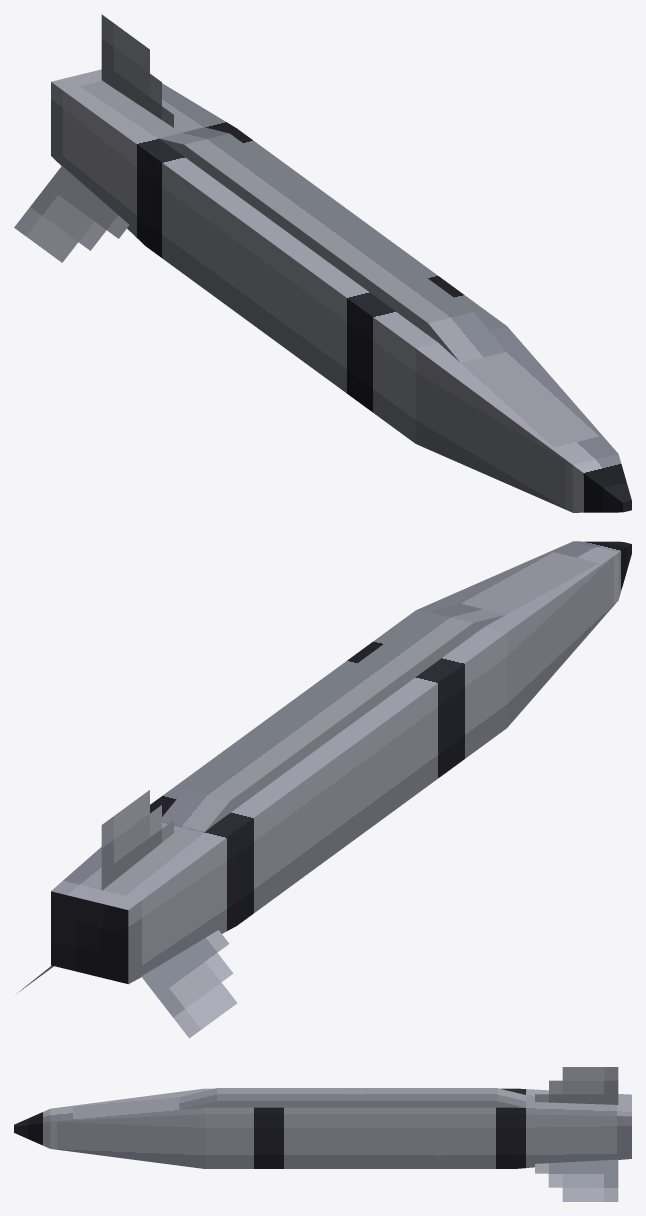
The model's file is agm69.obj.
3 views of the same model, one above another, from view 1: azimuth 30°, elevation 25°; view 2: azimuth 150°, elevation 25°; view 3: azimuth 270°, elevation 25° (orthographic). The views are drawn at different scales.
Parts seen in each view (by area): view 1: cube; view 2: cube; view 3: cube.
Part boxes in pixels (x1=…): cube: x1=14, y1=14, x2=631, y2=512; cube: x1=18, y1=541, x2=631, y2=1038; cube: x1=14, y1=1067, x2=631, y2=1201.
Size of the model in its own units: 0.6756 by 0.7073 by 3.59.
